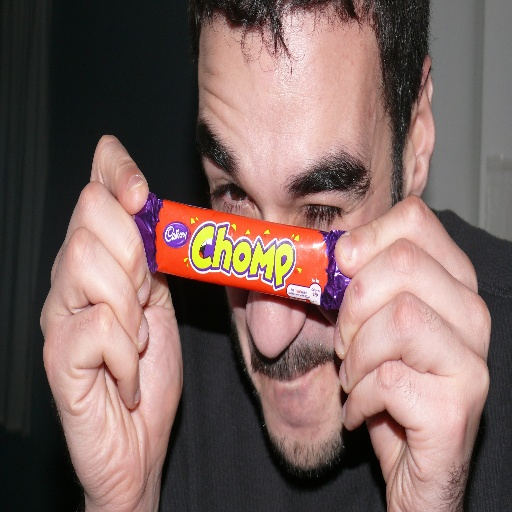hand: (331, 192, 493, 511), (43, 124, 173, 492)
